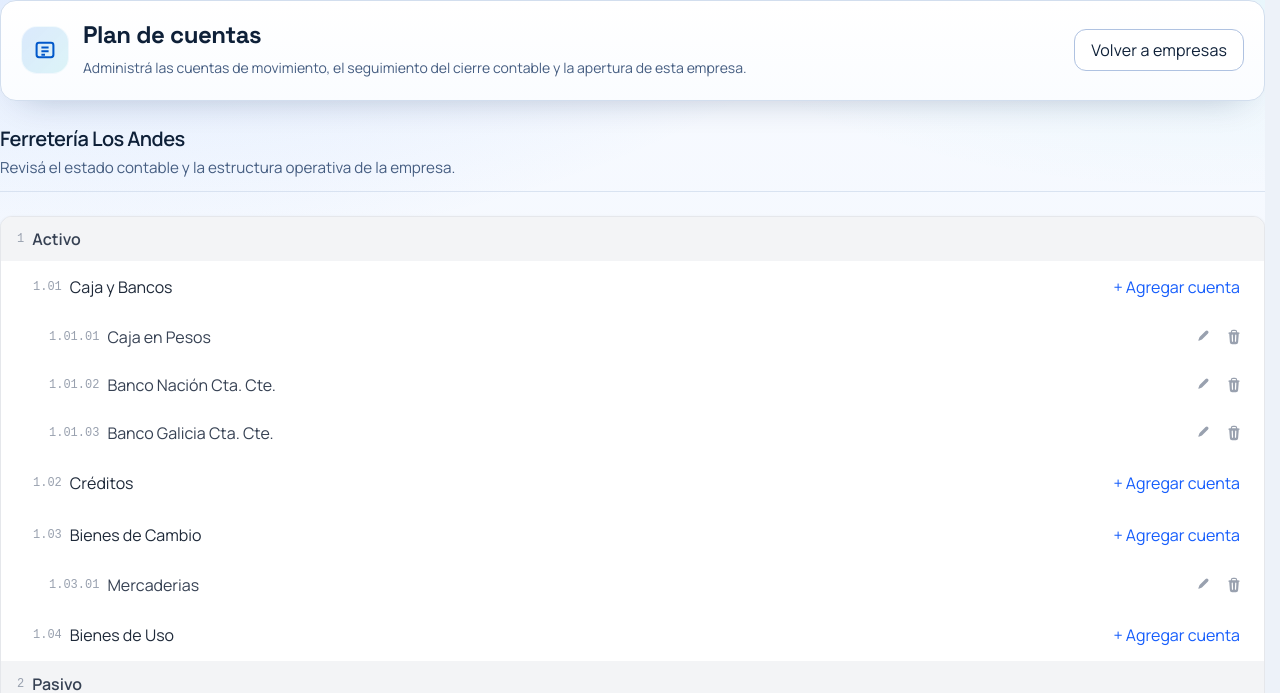
Test: CompanyDetailPage › deletes a movement account successfully
Expected: the text "Caja y Bancos" is shown, [70,274,172,298]
Click the button "+ Agregar cuenta" in the row of "Caja y Bancos" at coordinates (1177, 286), box [1105,270,1248,302]
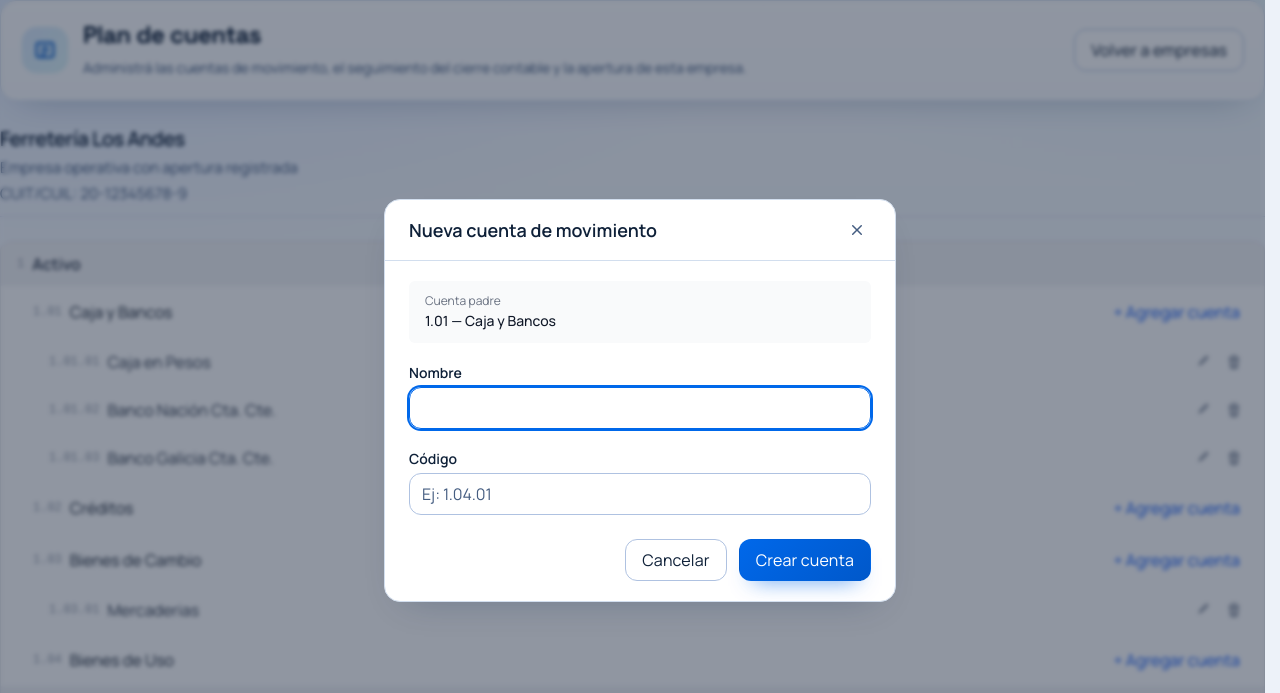
Type "Cuenta temporal borrable" into the field labelled "Nombre" at coordinates (640, 408), box [409,386,871,428]
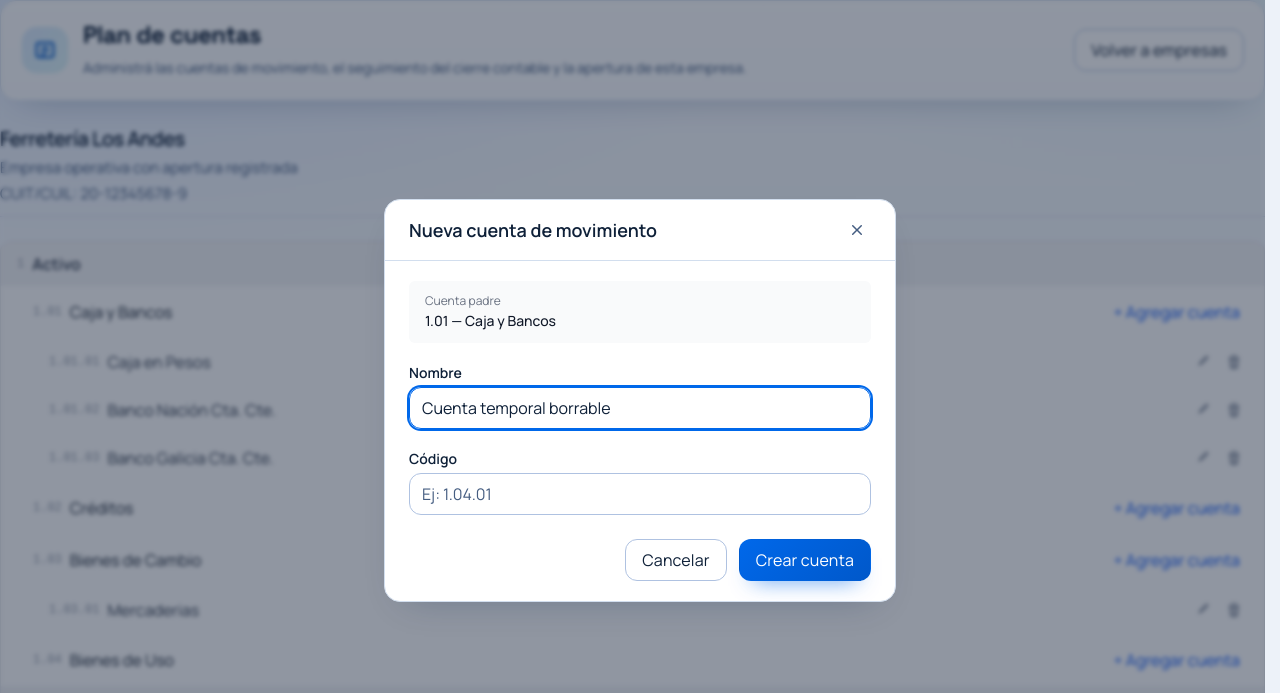
Type "1.01.03" into the field labelled "Código" at coordinates (640, 494), box [409,472,871,514]
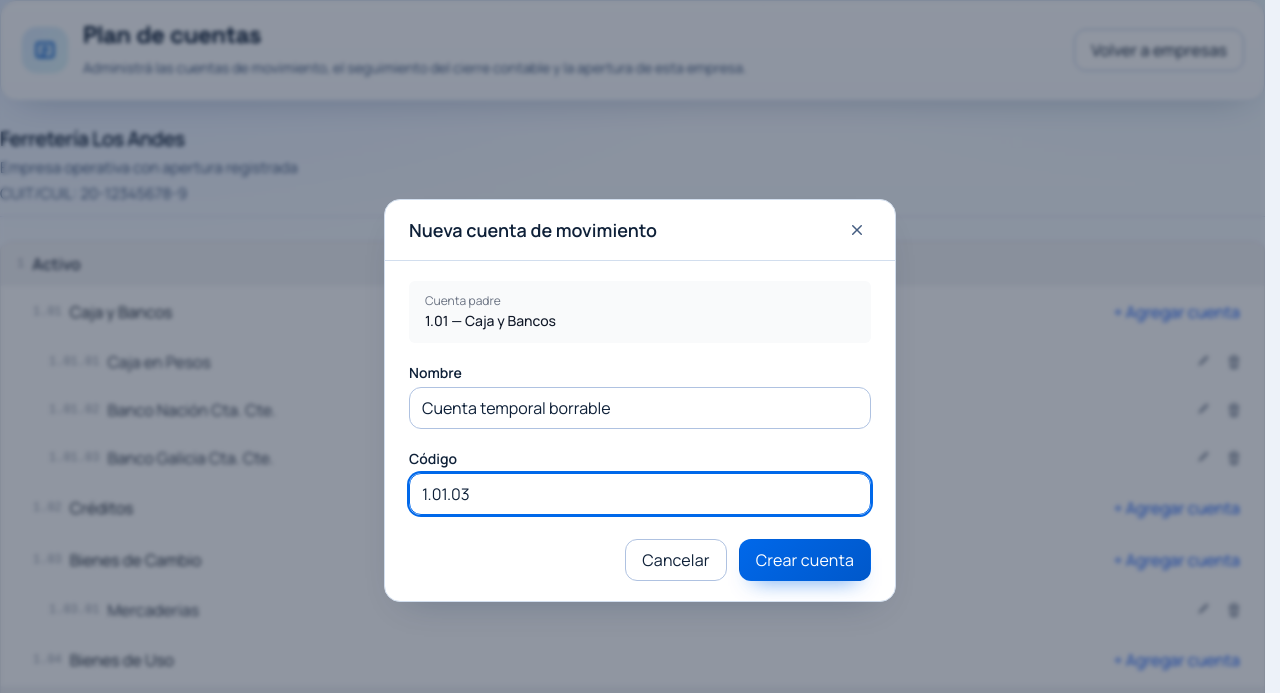
Click the button "Crear cuenta" at coordinates (805, 560), box [739,538,871,580]
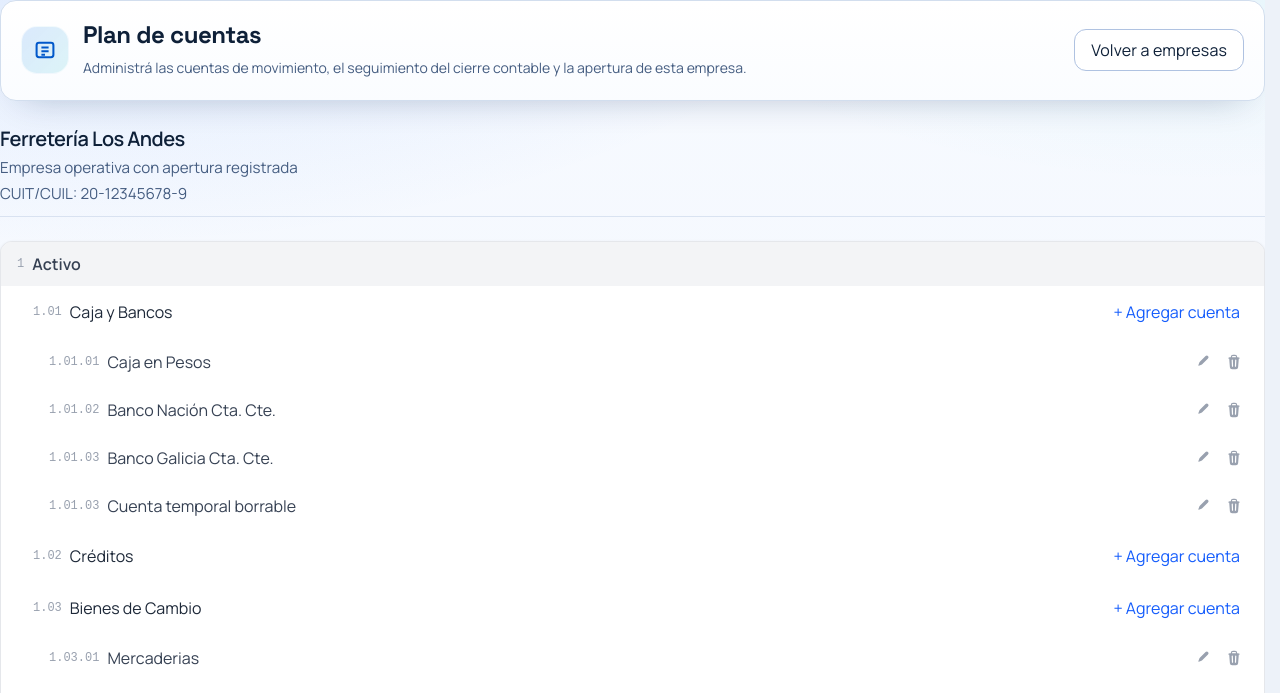
Expected: the text "Cuenta temporal borrable" is shown, [107,494,296,518]
Click the button named "eliminar cuenta temporal borrable" at coordinates (1234, 506), box [1220,492,1248,520]
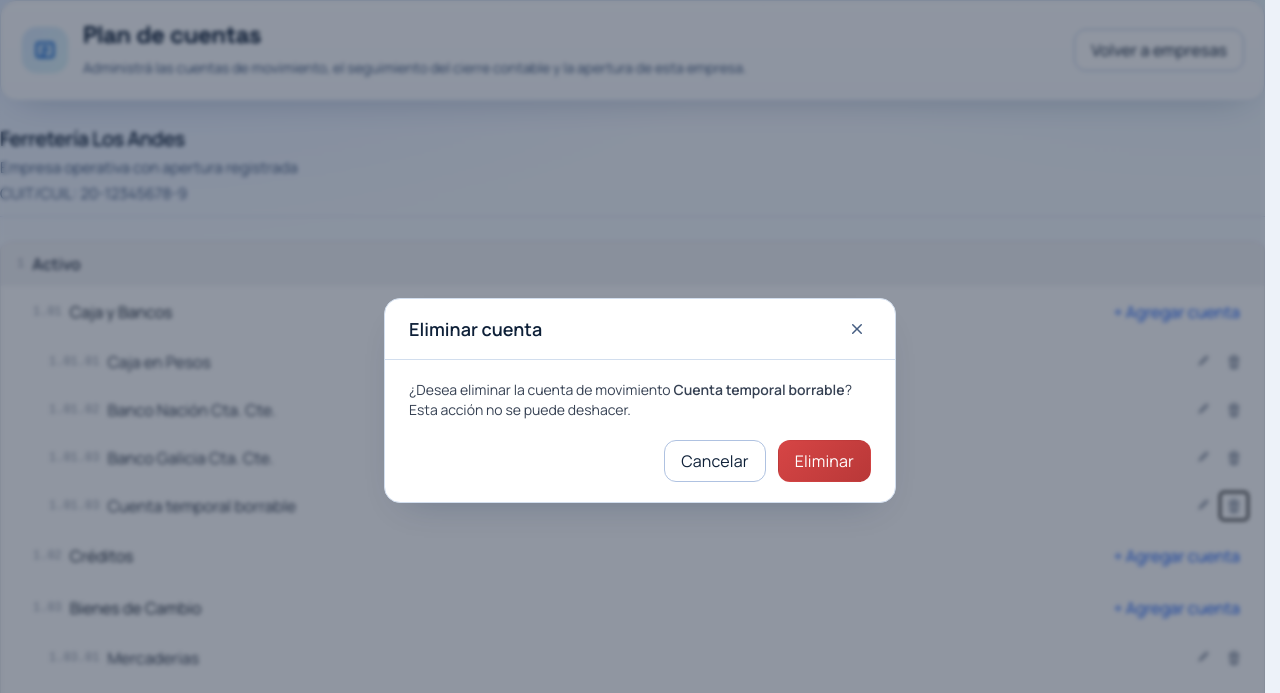
Click the button "Eliminar" at coordinates (824, 460), box [778,440,871,482]
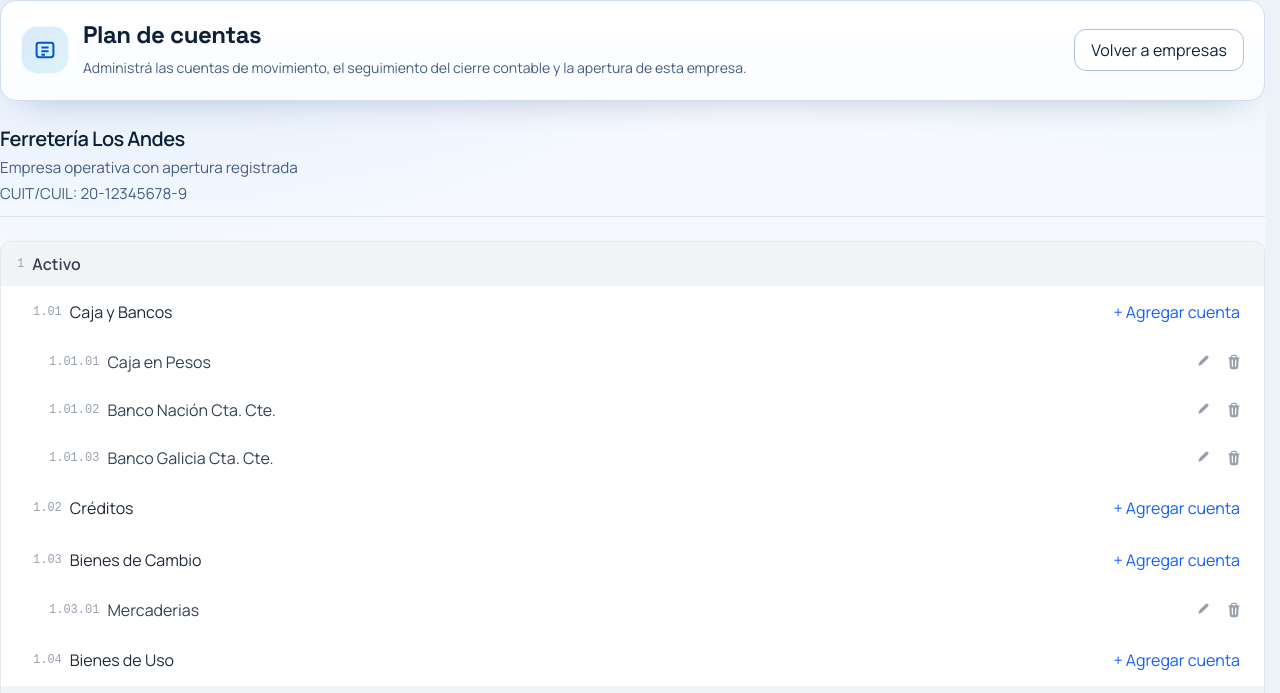
Expected: the text "Cuenta temporal borrable" is gone
